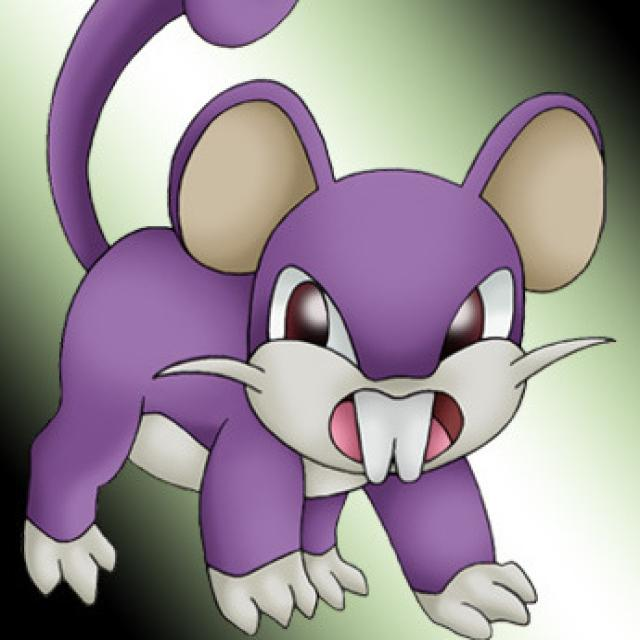Rattata: (43, 76, 556, 628)
